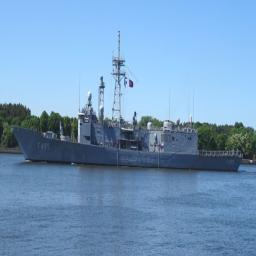Fragata: (10, 29, 243, 174)
